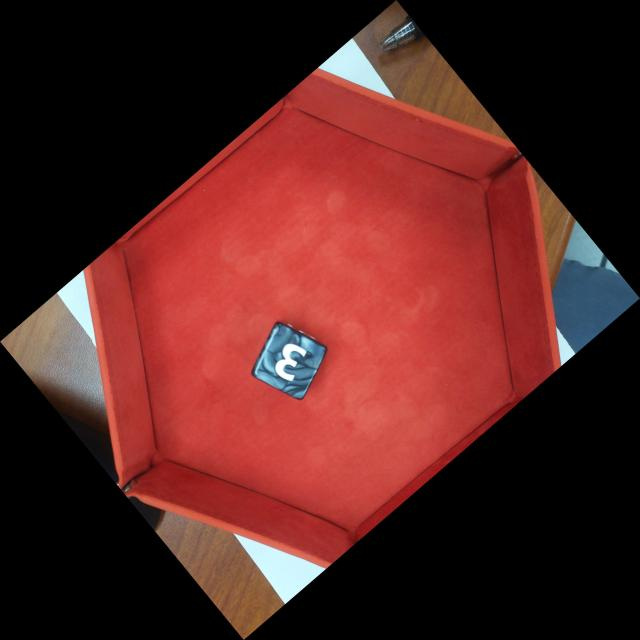dice: (249, 319, 332, 405)
